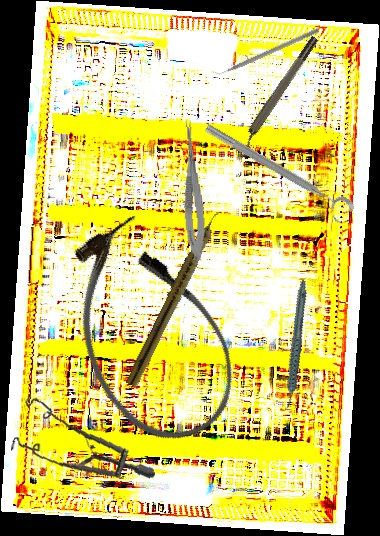Cannula: (41, 200, 257, 464)
Chopper: (210, 22, 320, 79)
Fixation Ring: (197, 119, 357, 228), (229, 34, 326, 160)
Handpiece: (124, 207, 226, 390), (255, 279, 333, 413)
Micro Scissor: (175, 119, 209, 261)
Speculum: (5, 382, 156, 494)
